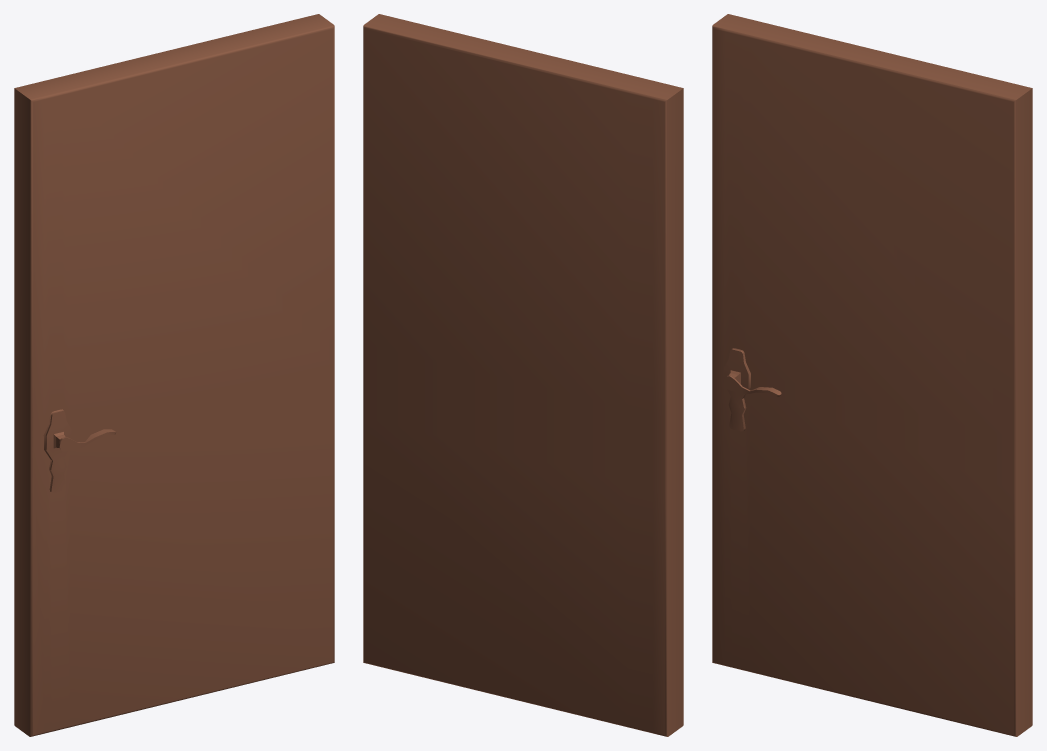
File: bedroom_door_abg.fbx
3 views of the same model, side by side, from view 1: azimuth 30°, elevation 25°; view 2: azimuth 150°, elevation 25°; view 3: azimuth 330°, elevation 25° (orthographic).
Parts seen in each view (by area): view 1: bedroom_door; view 2: bedroom_door; view 3: bedroom_door.
Part boxes in pixels (x1,y1,x2,y2): bedroom_door: (14, 14, 334, 736); bedroom_door: (363, 14, 683, 736); bedroom_door: (712, 14, 1032, 736).
Bounding box in the file's own units: 100 × 15.46 × 200.
